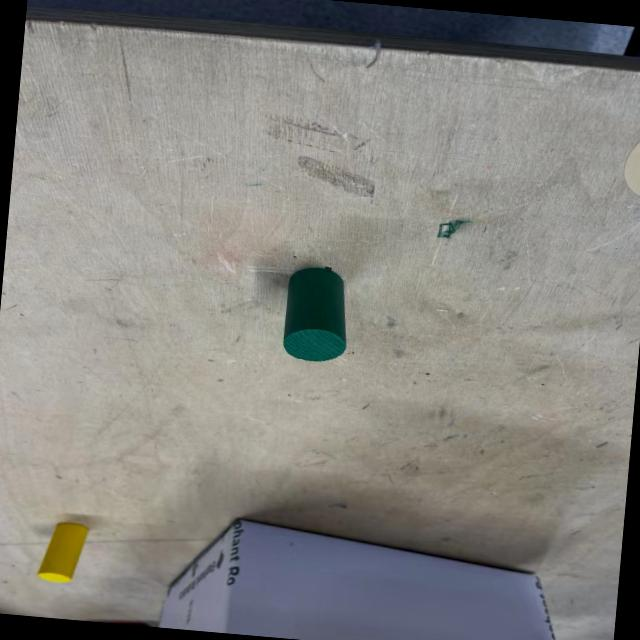green_cylinder: (280, 264, 354, 365)
